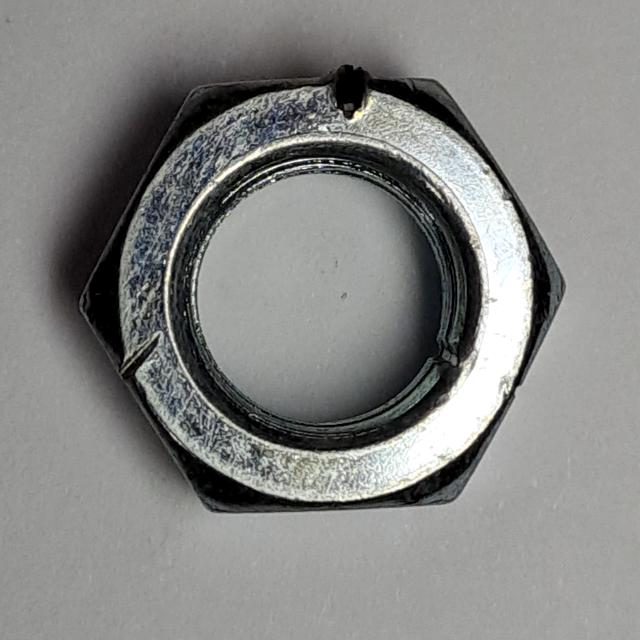Scratches: (59, 51, 580, 530)
